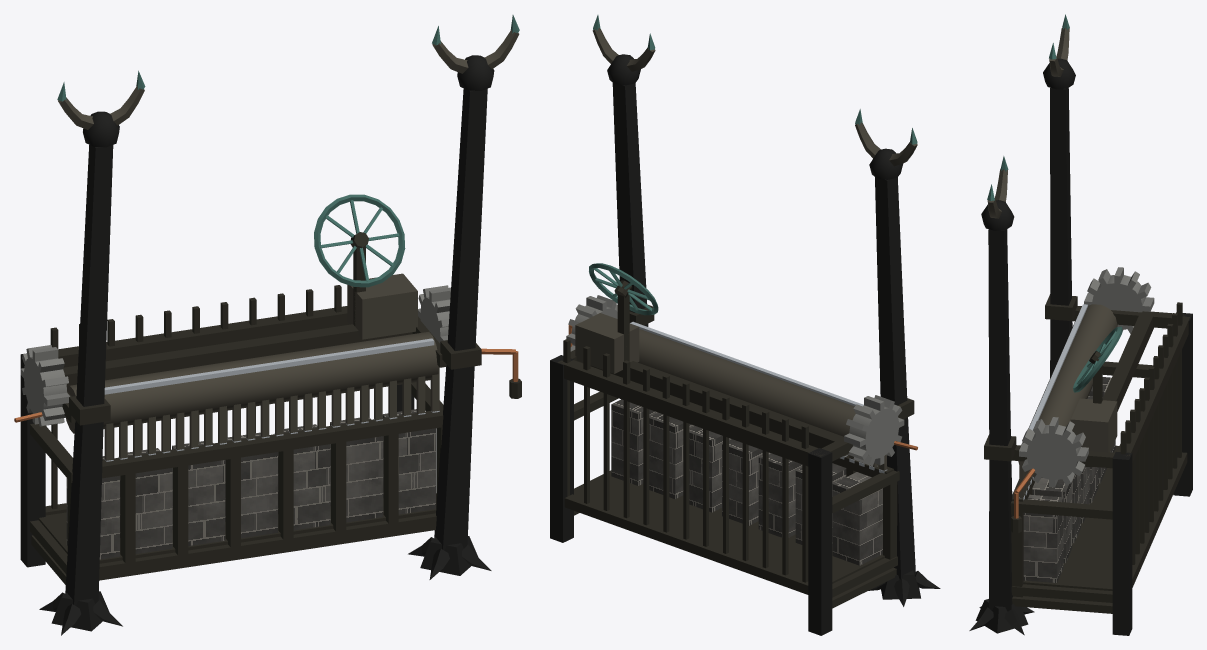
File: TarDev09.glb
3 views of the same model, side by side, from view 1: azimuth 30°, elevation 25°; view 2: azimuth 150°, elevation 25°; view 3: azimuth 270°, elevation 25° (orthographic). The views are drawn at different scales.
Parts seen in each view (by area): view 1: TarDev09; view 2: TarDev09; view 3: TarDev09.
Boxes of the visible parts, bbox=[...] form: TarDev09: bbox=[14, 15, 521, 635]; TarDev09: bbox=[550, 15, 940, 635]; TarDev09: bbox=[969, 14, 1192, 635].
Bounding box in the file's own units: 10.67 × 12.1 × 5.3.
Materials: 8 (1 with a texture image).
